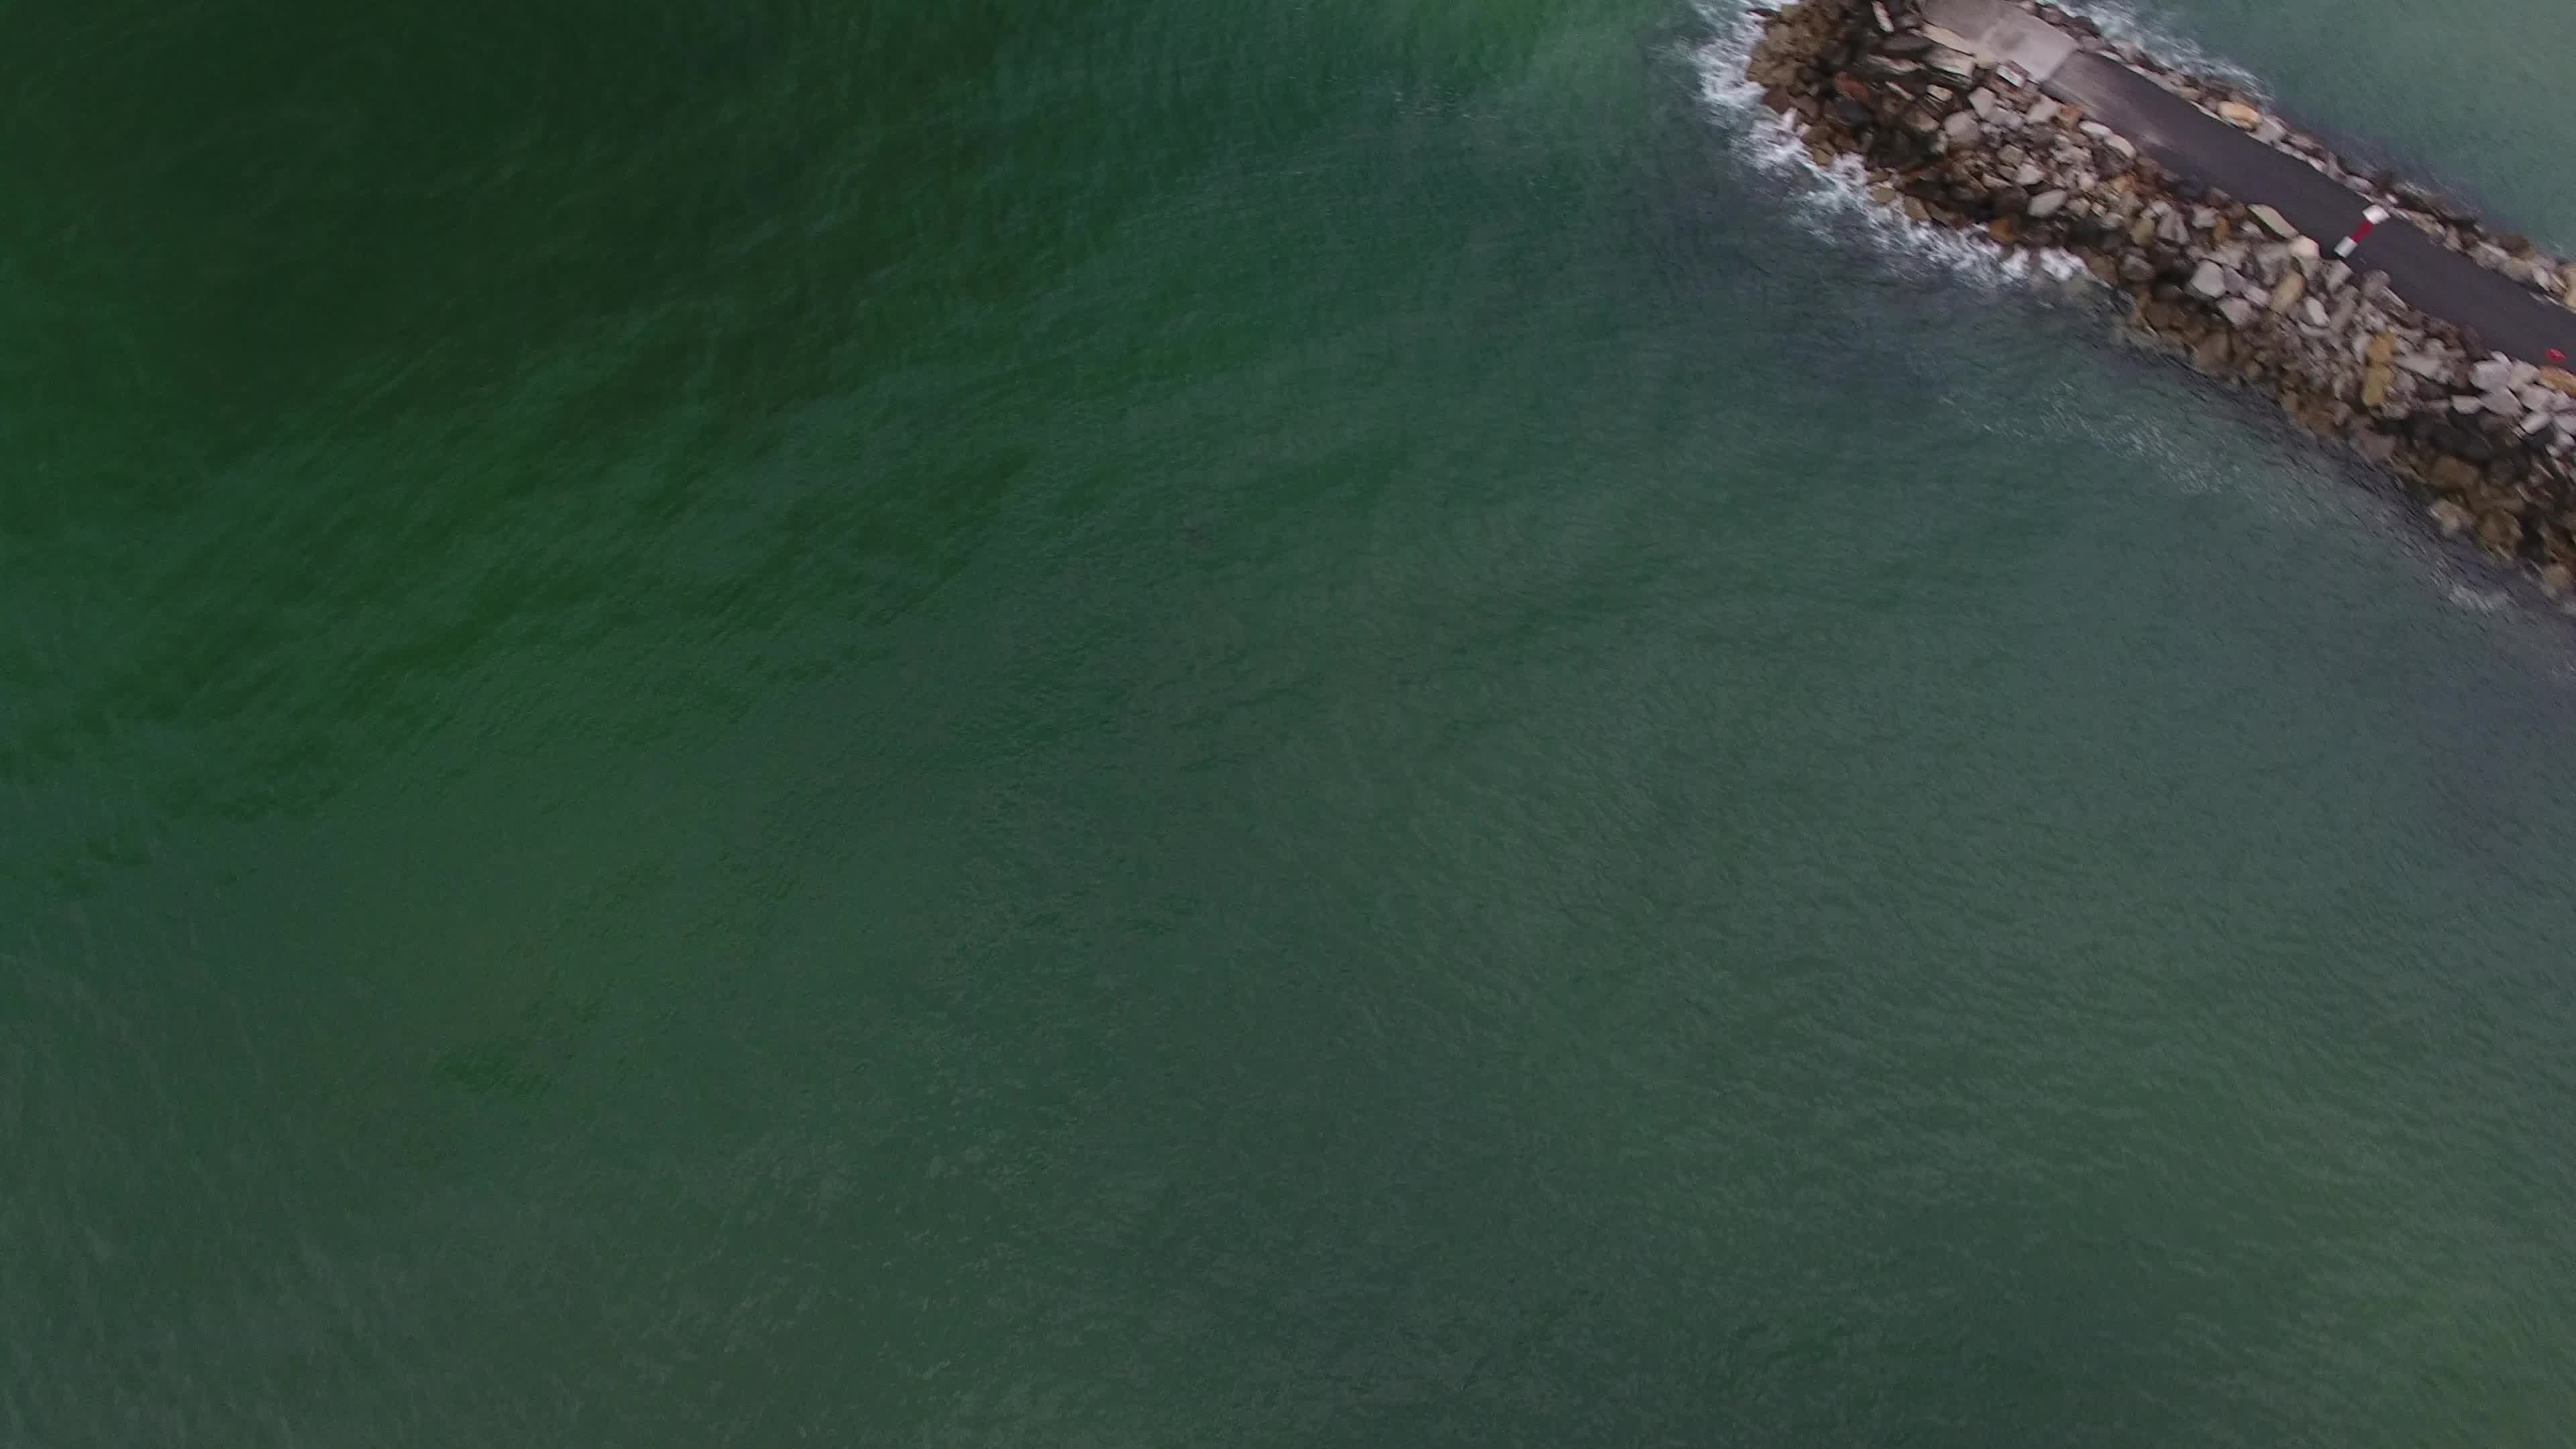dolphin: (1155, 506, 1242, 563)
